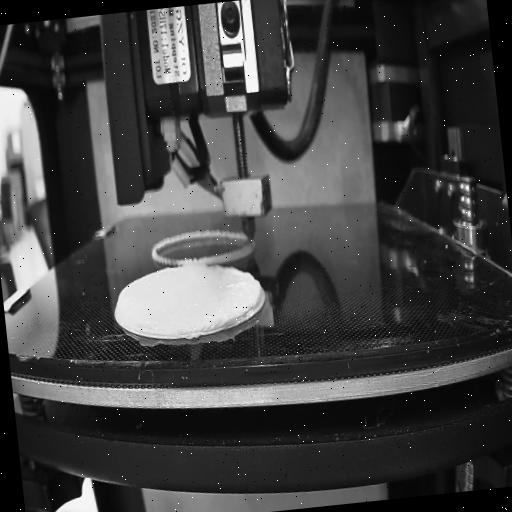over_extrusion: (240, 268, 264, 314)
